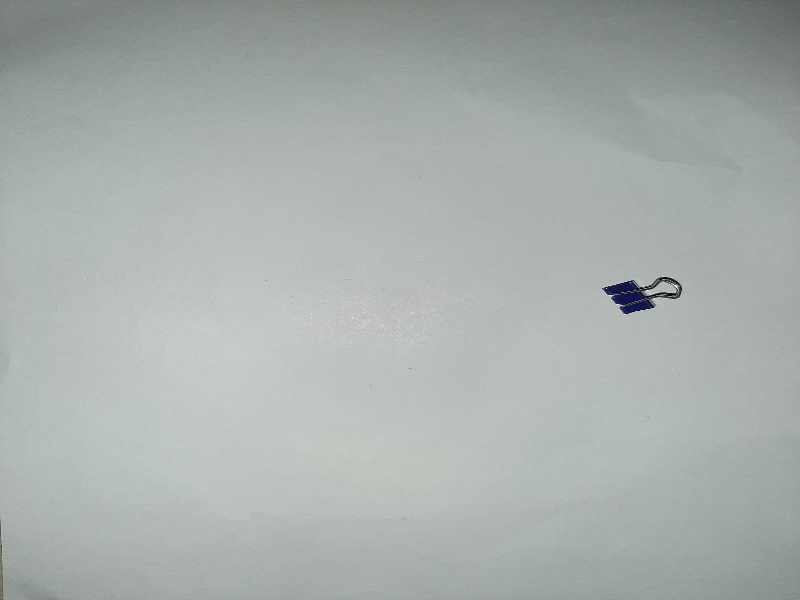Small Paperclip: (603, 263, 685, 328)
